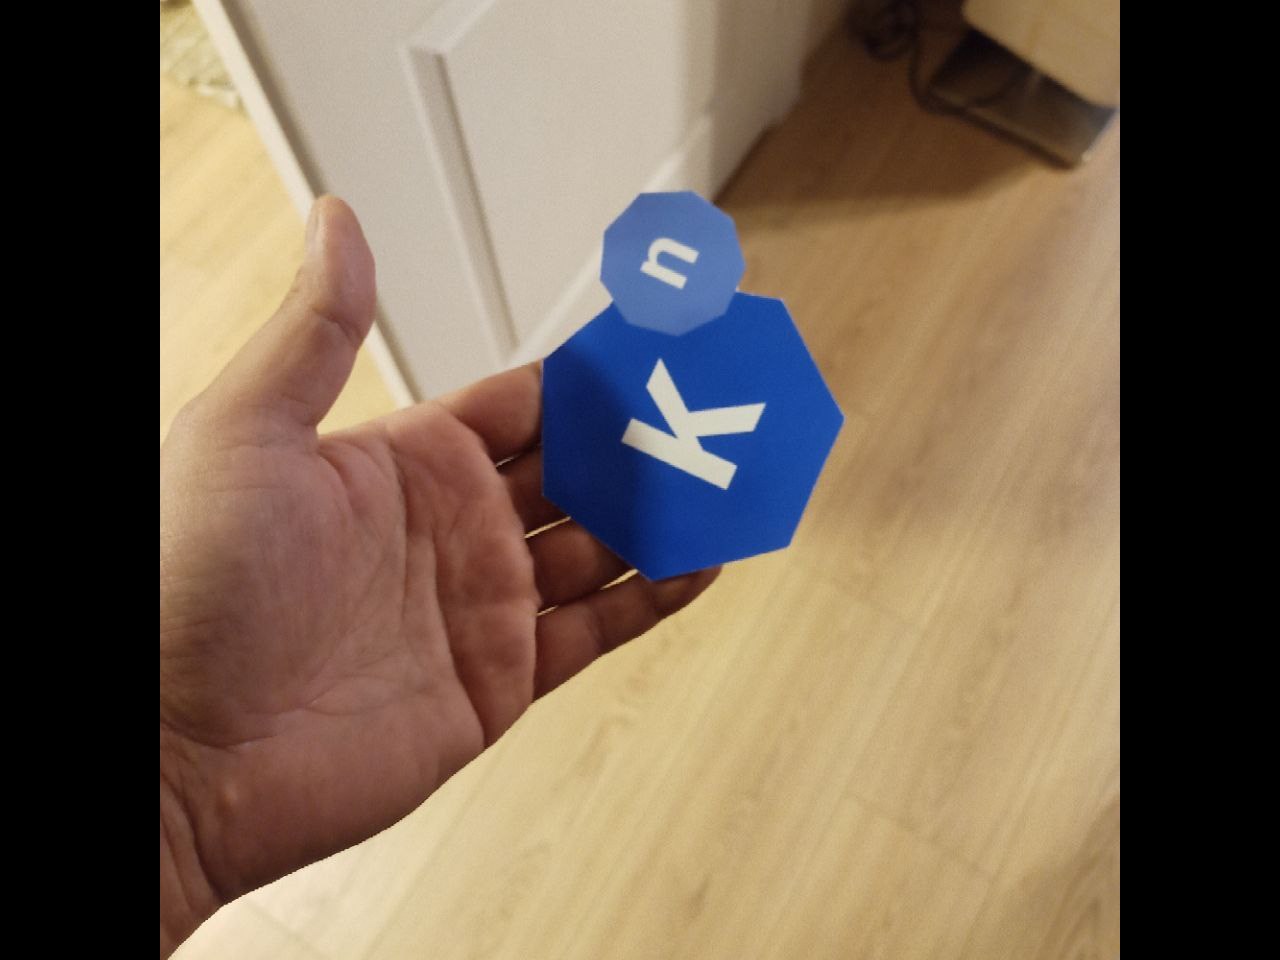knative: (538, 188, 848, 583)
